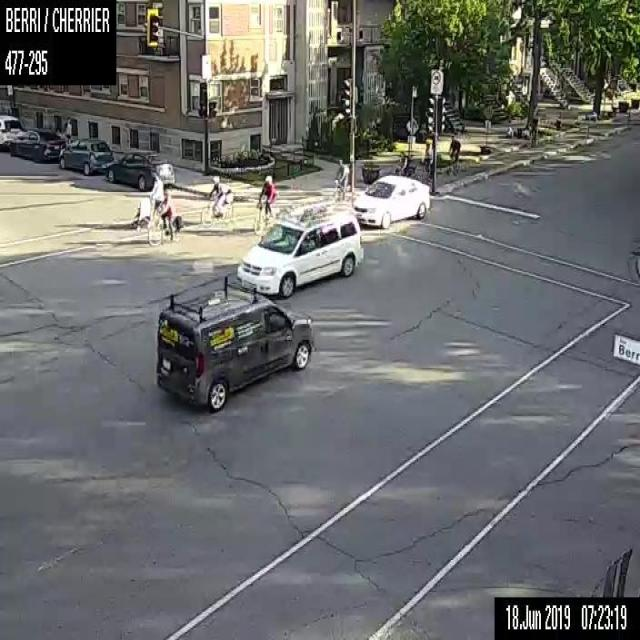cyclist: (147, 189, 183, 245), (201, 173, 233, 226), (253, 175, 279, 235), (446, 133, 466, 174), (333, 158, 350, 202), (394, 149, 416, 176), (420, 137, 433, 177)
pedestrian: (130, 171, 163, 229), (65, 116, 71, 143)
vehicle: (154, 276, 312, 410), (235, 201, 362, 296), (354, 175, 428, 228), (104, 149, 174, 189), (59, 137, 115, 173), (10, 129, 65, 160), (0, 115, 21, 146)
